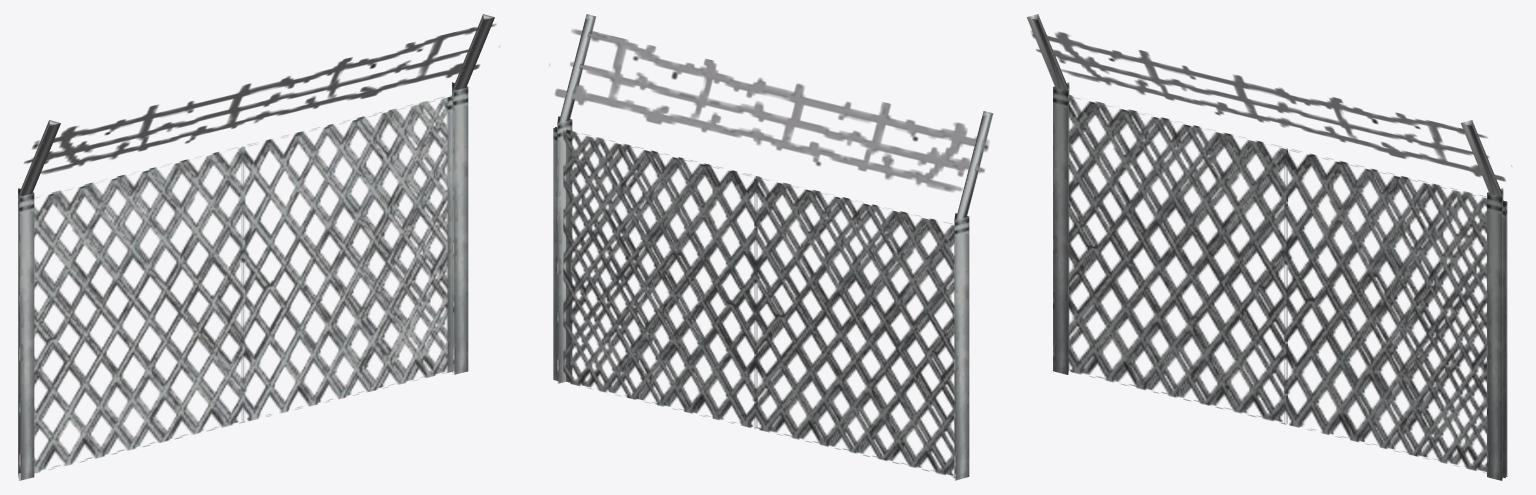
File: Environment - Prop - Chain Link Fence 01 - PMWallChn6.glb
3 renders of one model, left to right at view 1: azimuth 30°, elevation 25°; view 2: azimuth 150°, elevation 25°; view 3: azimuth 330°, elevation 25°, orthographic. The views are drawn at different scales.
Parts seen in each view (by area): view 1: PMWALLCHN6; view 2: PMWALLCHN6; view 3: PMWALLCHN6.
Part boxes in pixels (<box>): PMWALLCHN6: <box>18,14,499,480</box>; PMWALLCHN6: <box>549,14,993,480</box>; PMWALLCHN6: <box>1027,14,1511,480</box>.
Bounding box in the file's own units: 30.06 × 22.65 × 4.11.
2 materials, 2 textured.
